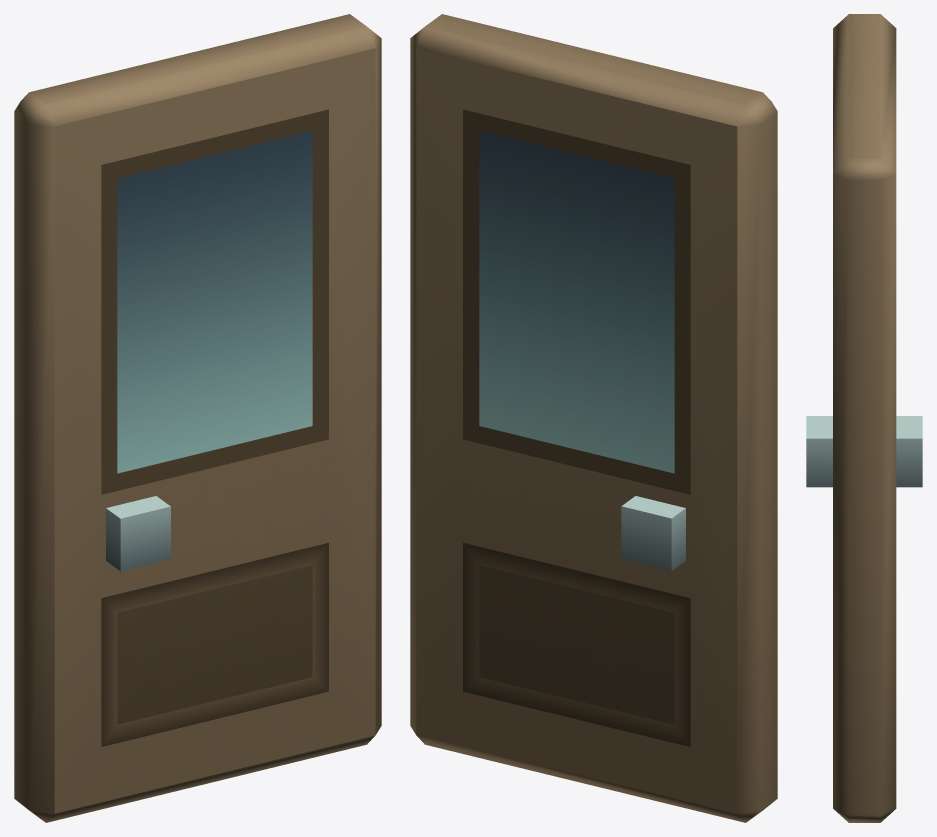
Rendered from door_brown_police_station.fbx.
The picture shows the model from 3 angles, left to right: view 1: azimuth 30°, elevation 25°; view 2: azimuth 150°, elevation 25°; view 3: azimuth 270°, elevation 25°; orthographic projection. The views are drawn at different scales.
Parts seen in each view (by area): view 1: door_brown_police_station; view 2: door_brown_police_station; view 3: door_brown_police_station.
Boxes of the visible parts, <box> form: door_brown_police_station: <box>14,14,381,822</box>; door_brown_police_station: <box>410,14,777,822</box>; door_brown_police_station: <box>806,14,922,822</box>.
Size of the model in its own units: 104 by 204 by 32.5.
